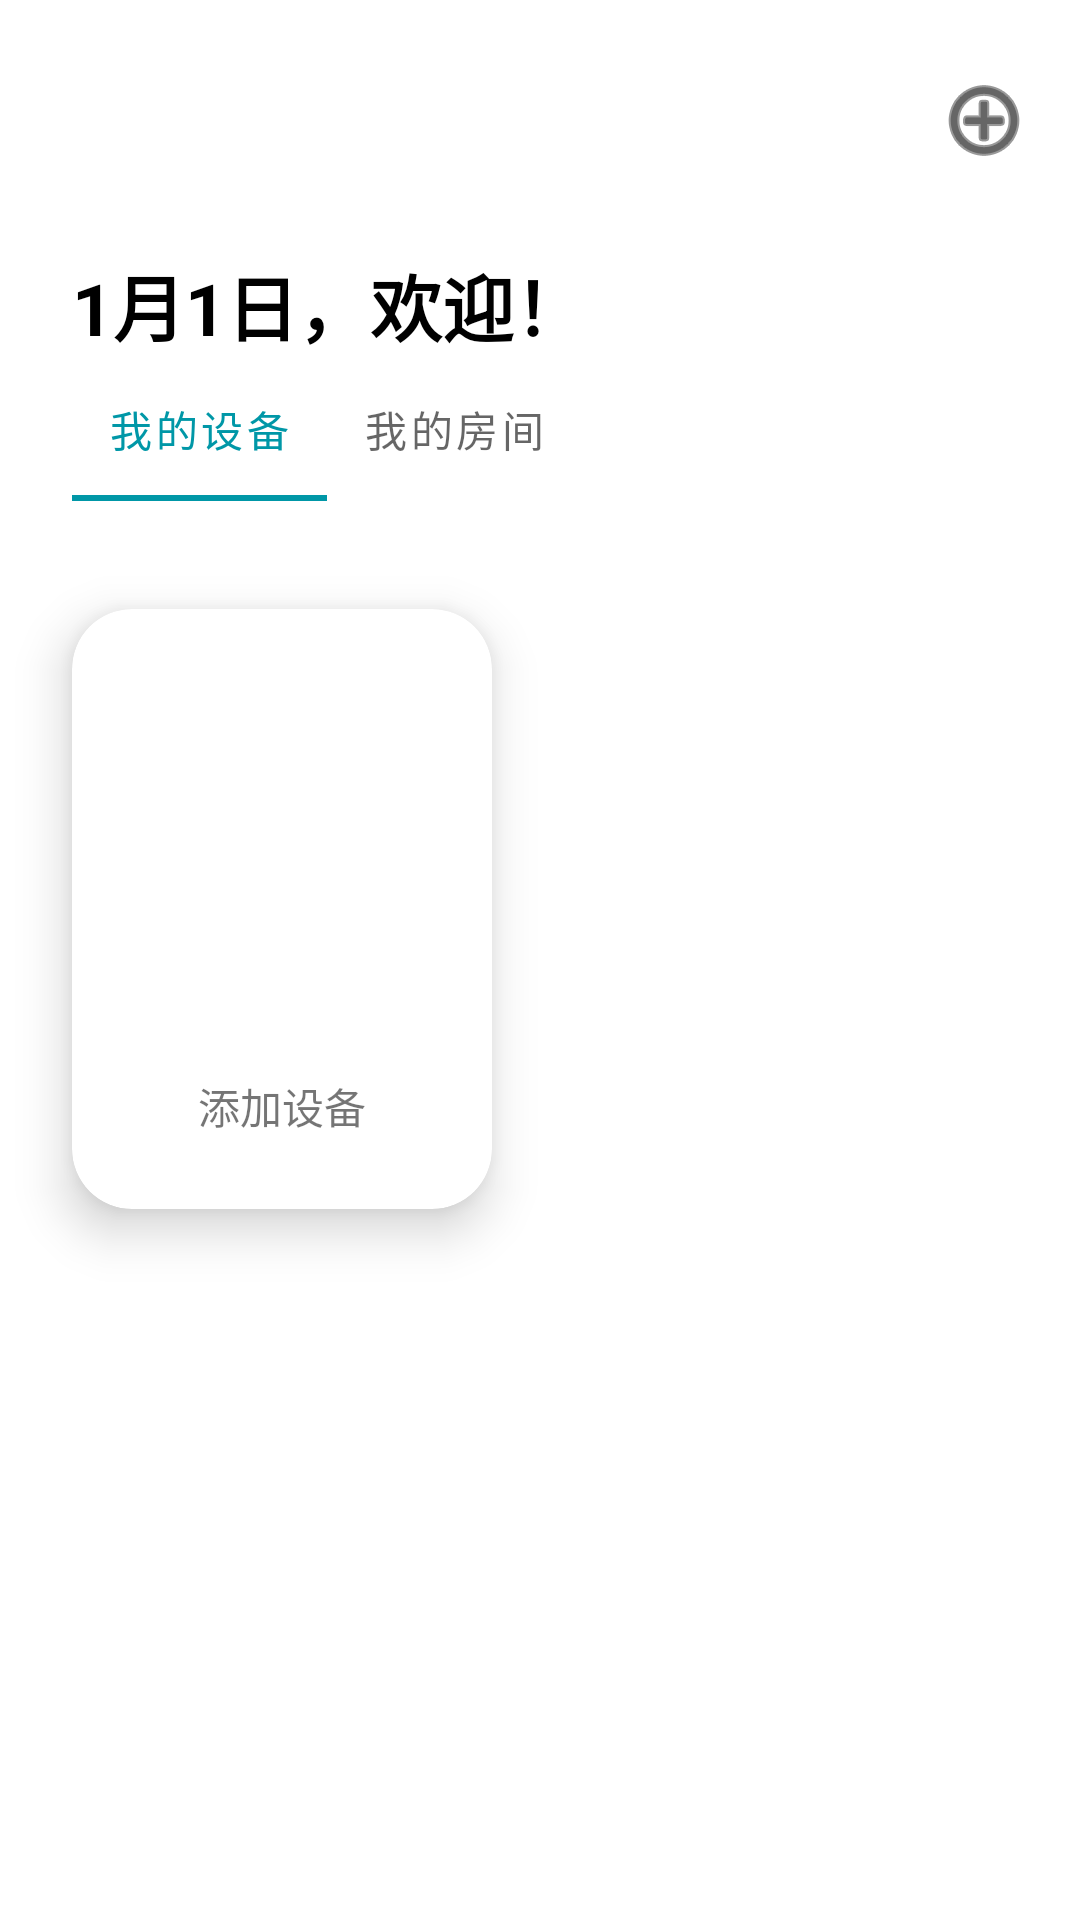

Screen size 1080×1920. Icon name, then its box in pixels as (x1, y1, x2, y2):
add: (948, 85, 1020, 156)
